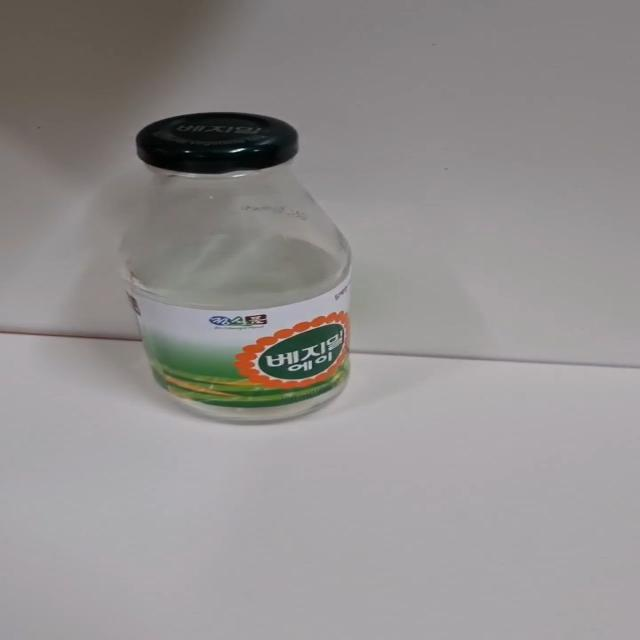Glass: (109, 113, 358, 425)
